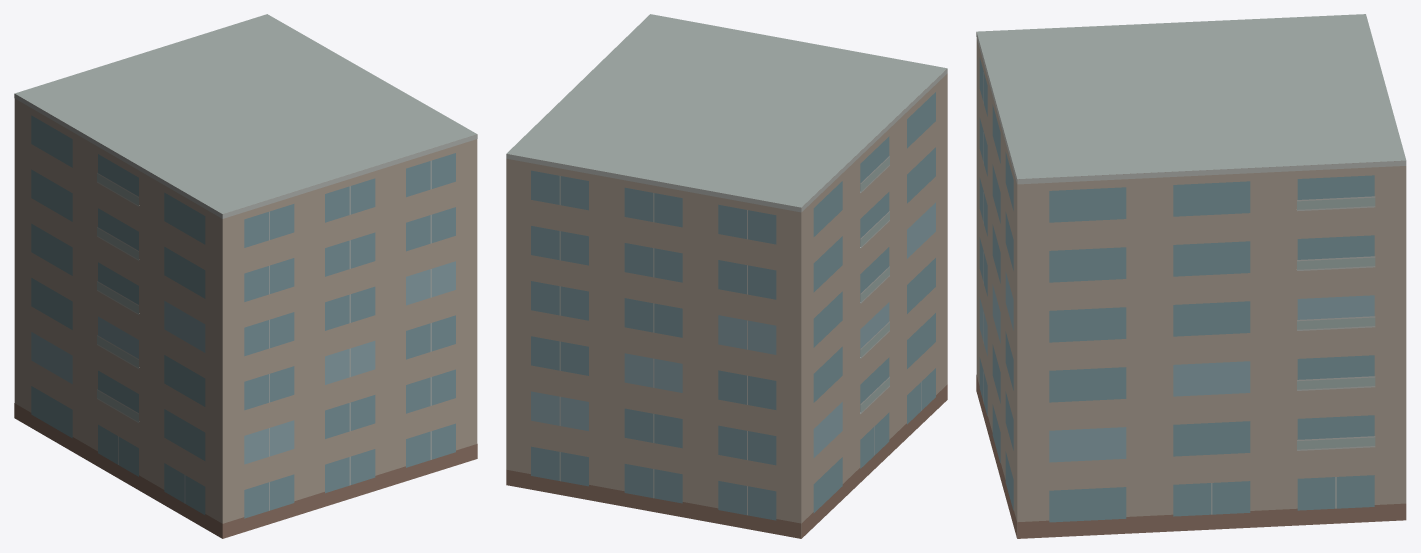
Rendered from survey-upis-32746776.glb.
3 renders of one model, left to right at view 1: azimuth 30°, elevation 25°; view 2: azimuth 150°, elevation 25°; view 3: azimuth 270°, elevation 25°, orthographic. The views are drawn at different scales.
Visible parts, largest first — view 1: survey-upis-32746776.tmp; view 2: survey-upis-32746776.tmp; view 3: survey-upis-32746776.tmp.
Boxes of the visible parts, x1,y1,x2,y2 form: survey-upis-32746776.tmp: [14, 14, 477, 538]; survey-upis-32746776.tmp: [506, 14, 947, 538]; survey-upis-32746776.tmp: [976, 14, 1406, 538].
Bounding box in the file's own units: 16.36 × 16.6 × 17.99.
